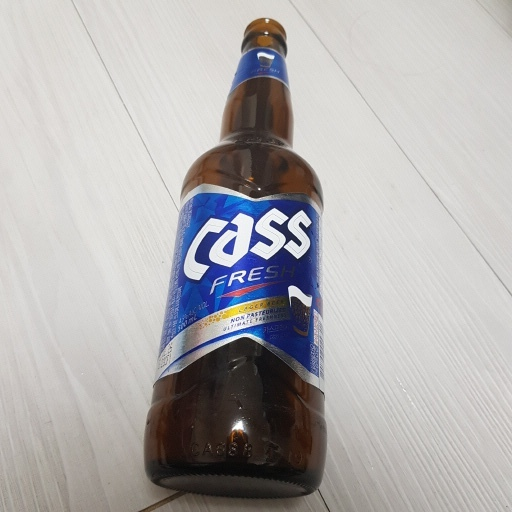Glass_1: (140, 13, 331, 498)
